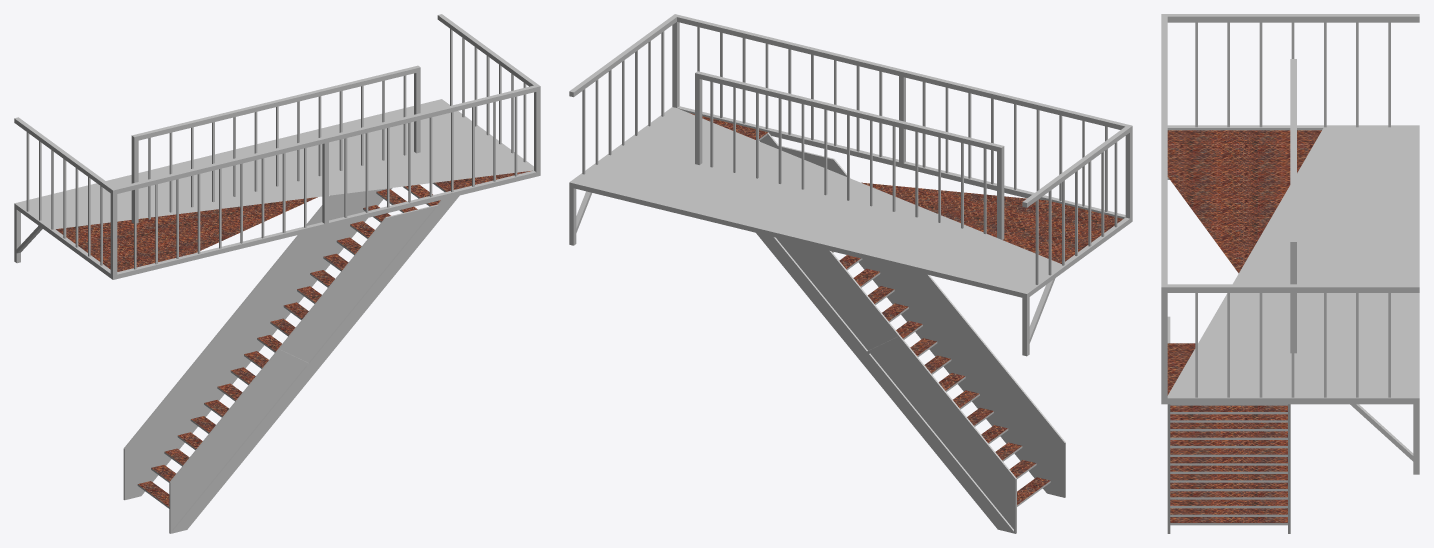
File: Middle.FBX
3 views of the same model, side by side, from view 1: azimuth 30°, elevation 25°; view 2: azimuth 150°, elevation 25°; view 3: azimuth 270°, elevation 25° (orthographic). The views are drawn at different scales.
Visible parts, largest first — view 1: Middle; view 2: Middle; view 3: Middle.
Part boxes in pixels (x1,y1,x2,y2): Middle: (14,14,540,533); Middle: (569,14,1132,533); Middle: (1161,14,1419,533).
Bounding box in the file's own units: 500 × 402 × 200.
